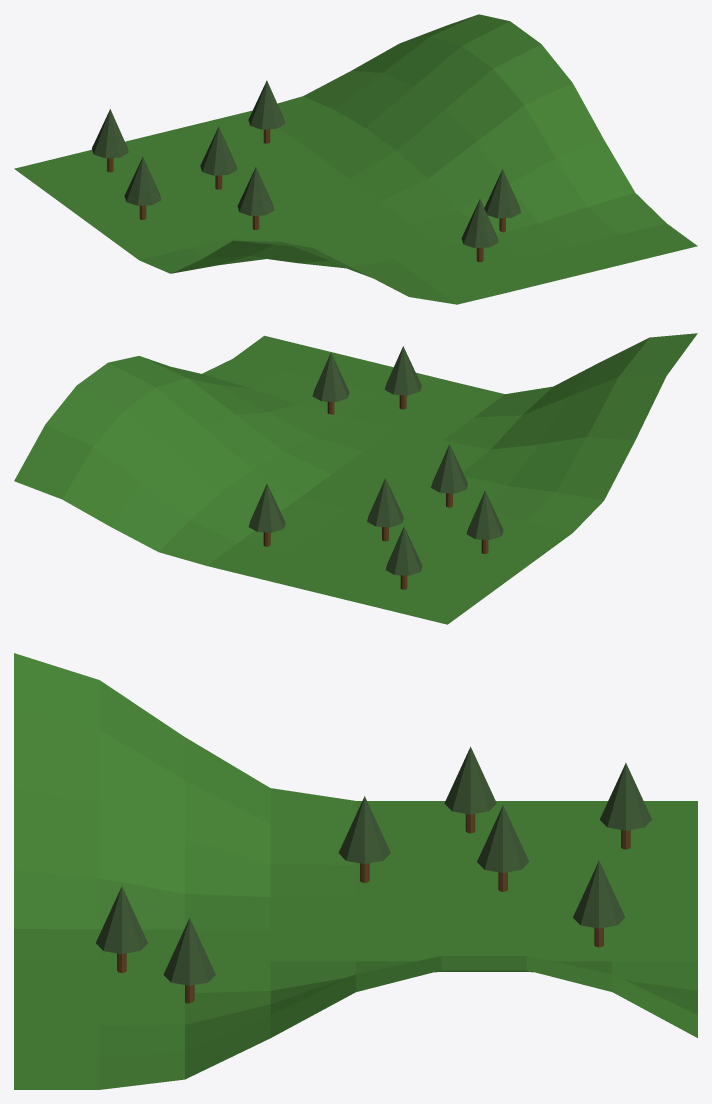
The model's file is Terrain_Separate.gltf.
The picture shows the model from 3 angles, top to bottom: view 1: azimuth 30°, elevation 25°; view 2: azimuth 150°, elevation 25°; view 3: azimuth 270°, elevation 25°; orthographic projection. The views are drawn at different scales.
Parts seen in each view (by area): view 1: Terrain; view 2: Terrain; view 3: Terrain.
Boxes of the visible parts, <box> form: Terrain: <box>14,14,697,304</box>; Terrain: <box>14,333,697,624</box>; Terrain: <box>14,653,697,1089</box>.
Size of the model in its own units: 26.02 by 6.22 by 26.02.
1 material, 1 textured.
